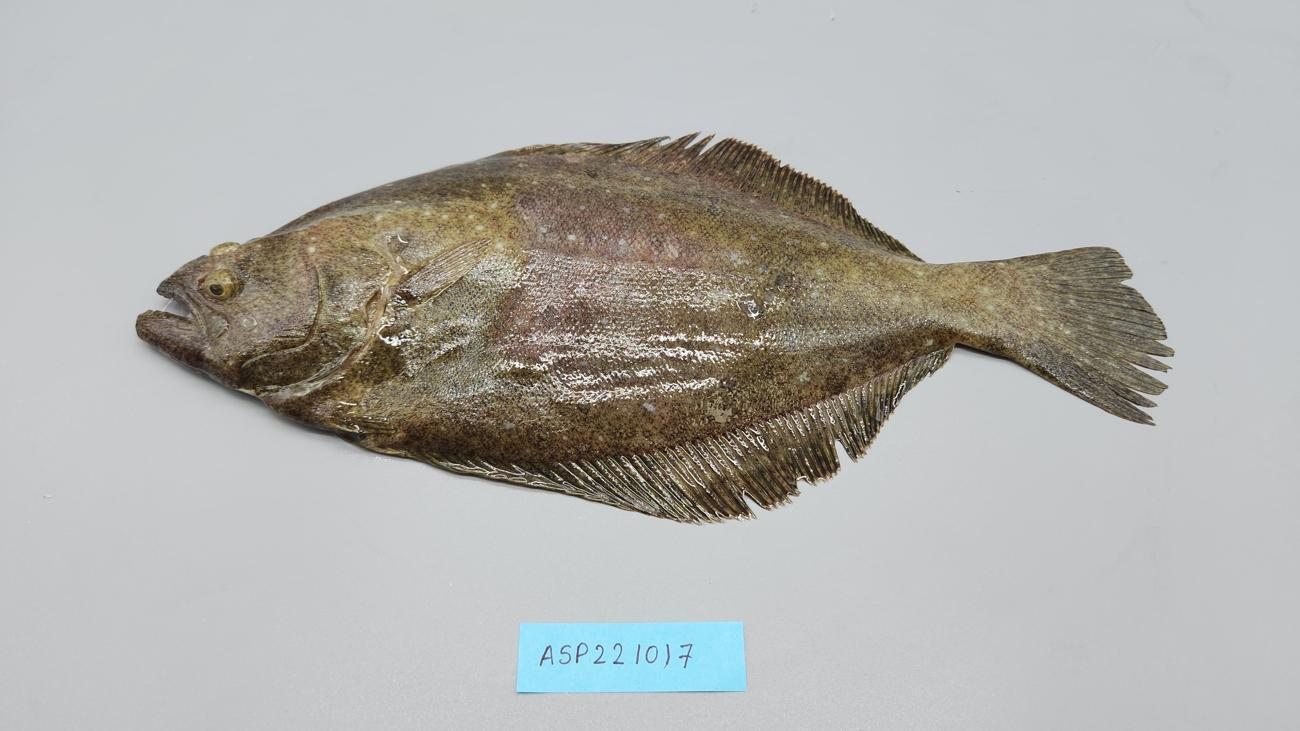SPDYH: (486, 187, 714, 373), (381, 416, 544, 461), (997, 264, 1044, 348)
SPFCH: (1086, 326, 1175, 372)
SPOUY: (131, 126, 1177, 535)
